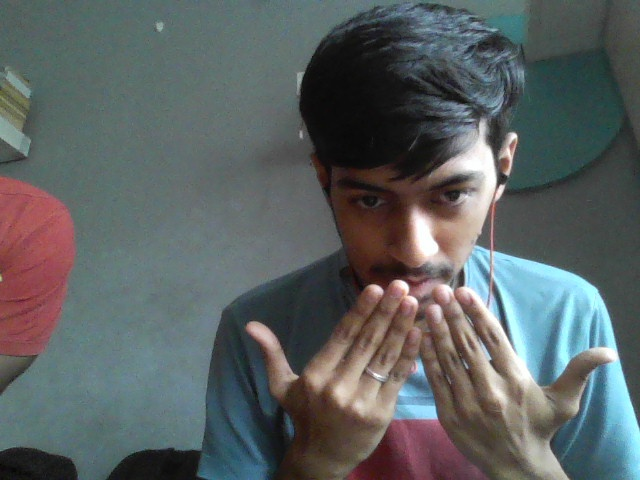Thank You: (237, 274, 622, 462)
